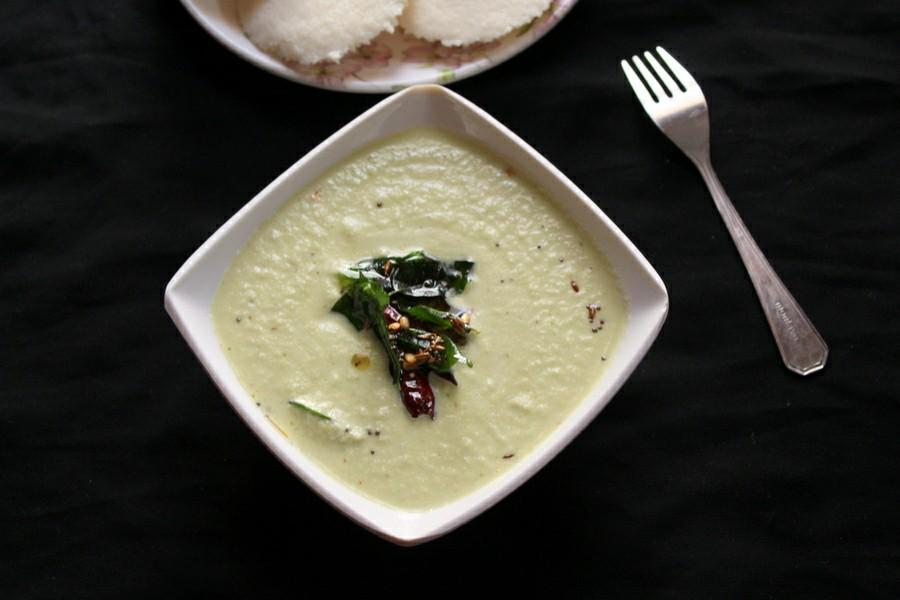CoconutChutney: (215, 126, 619, 509)
